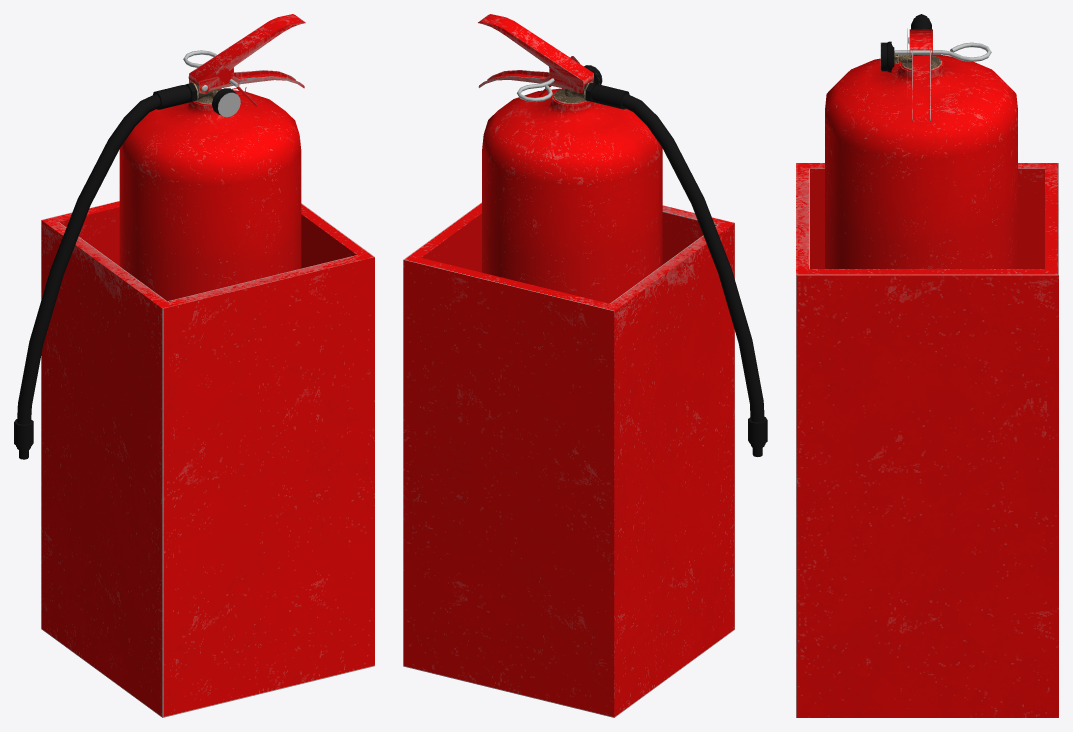
Rendered from firelom.glb.
3 views of the same model, side by side, from view 1: azimuth 30°, elevation 25°; view 2: azimuth 150°, elevation 25°; view 3: azimuth 270°, elevation 25° (orthographic). The views are drawn at different scales.
Visible parts, largest first — view 1: shlang2; view 2: shlang2; view 3: shlang2.
Part boxes in pixels (bbox=[...]): shlang2: bbox=[14, 14, 374, 717]; shlang2: bbox=[403, 14, 767, 717]; shlang2: bbox=[796, 14, 1058, 717].
Size of the model in its own units: 0.2579 by 0.5 by 0.18.
2 materials, 2 textured.
